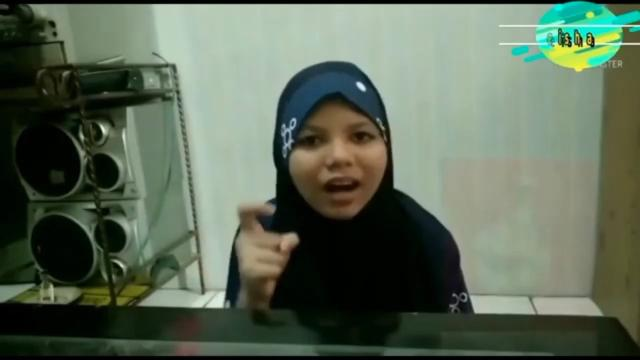X: (232, 197, 298, 296)
